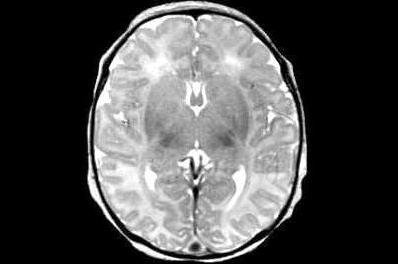Normal_Brain: (93, 1, 368, 264)
